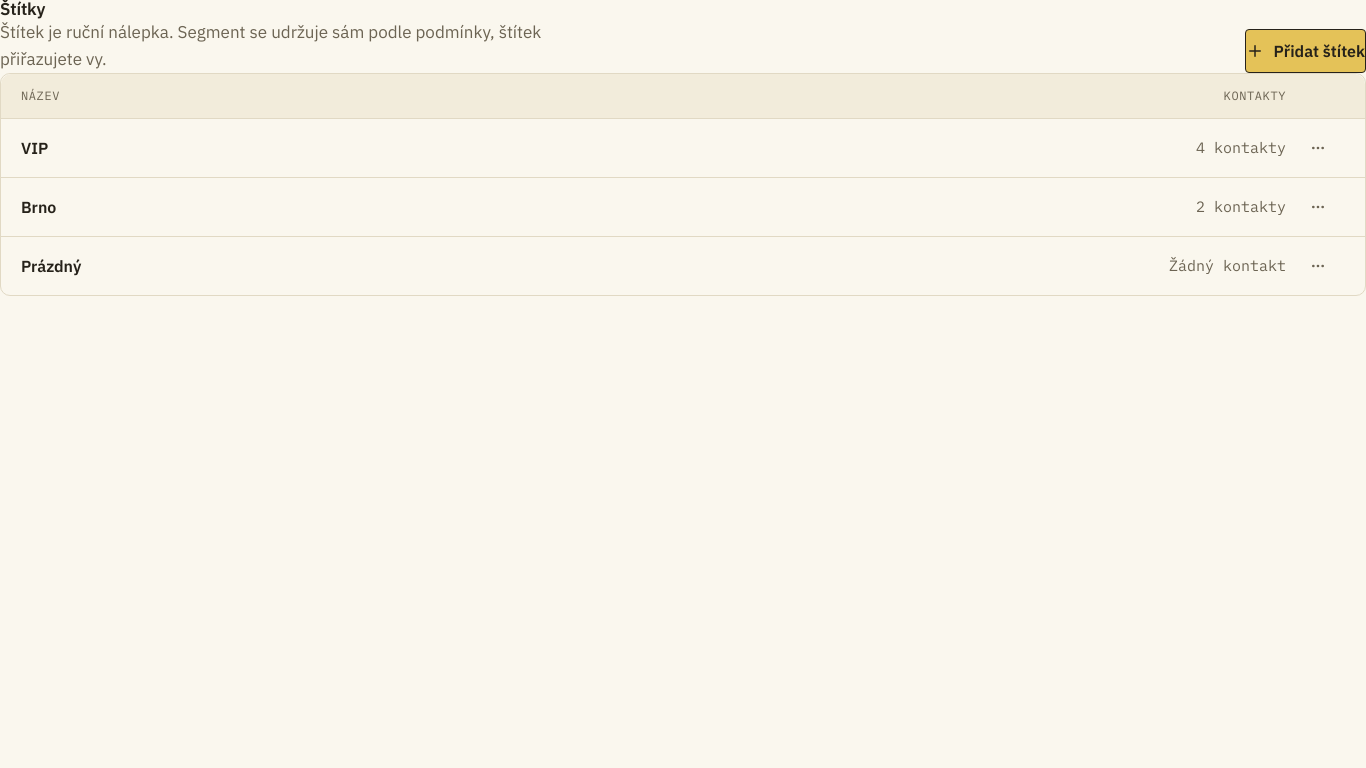
TagsScreen › export nabídne stažení, až je soubor hotový
Click the button named "Další akce se štítkem VIP": (1318, 148) [1301,131,1335,165]
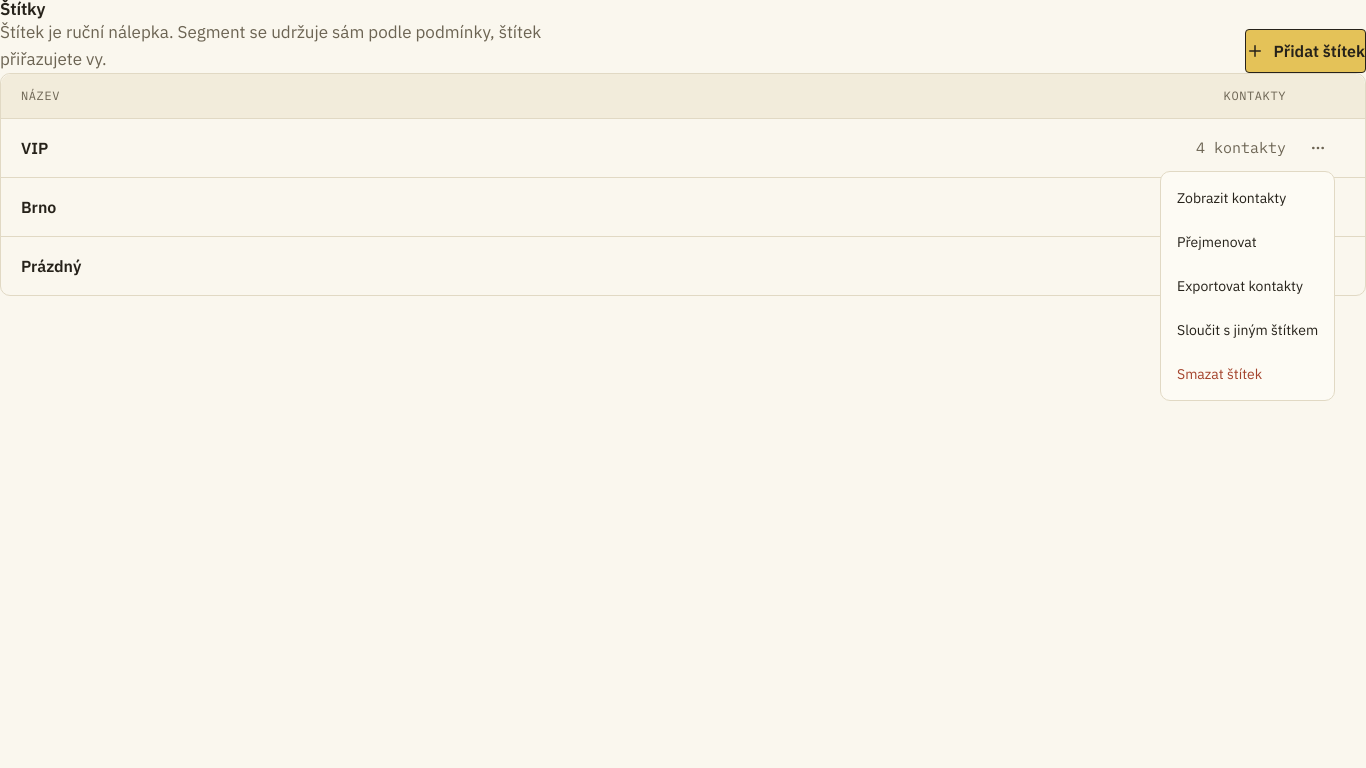
Click the menu item "Exportovat kontakty": (1240, 286) [1177,277,1303,295]
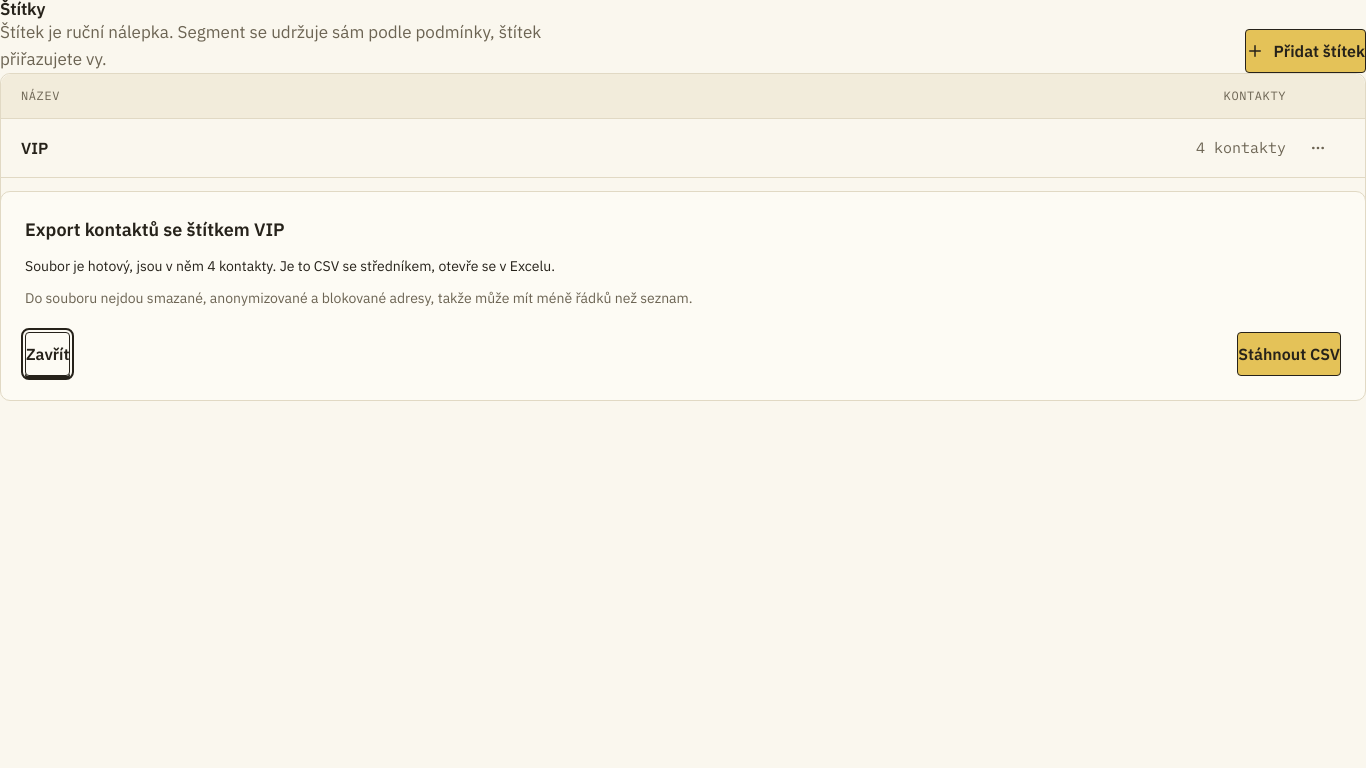
Expected: the button "Stáhnout CSV" is shown, [1237,332,1341,376]
Expected: the text "jsou v něm 4 kontakty" is shown, [25,257,555,275]
